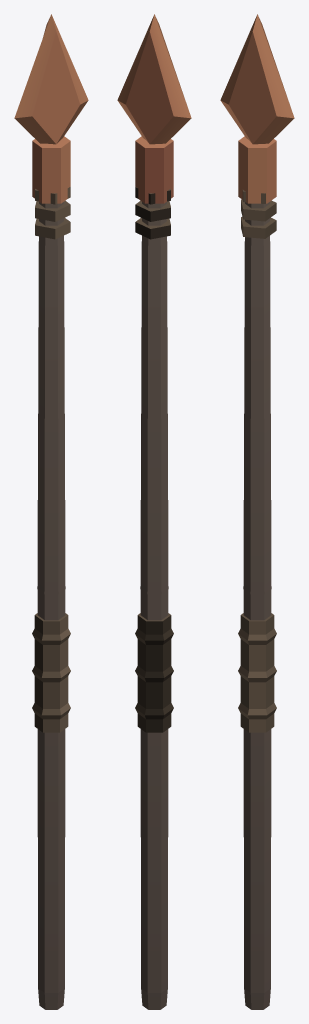
File: knight_spear_0.gltf
3 views of the same model, side by side, from view 1: azimuth 30°, elevation 25°; view 2: azimuth 150°, elevation 25°; view 3: azimuth 330°, elevation 25° (orthographic).
Parts seen in each view (by area): view 1: knight_spear_0; view 2: knight_spear_0; view 3: knight_spear_0.
Part boxes in pixels (x1,y1,x2,y2): knight_spear_0: [14, 14, 88, 1009]; knight_spear_0: [117, 14, 191, 1009]; knight_spear_0: [220, 14, 294, 1009].
Size of the model in its own units: 0.2229 by 2.84 by 0.1015.
1 material, 1 textured.
